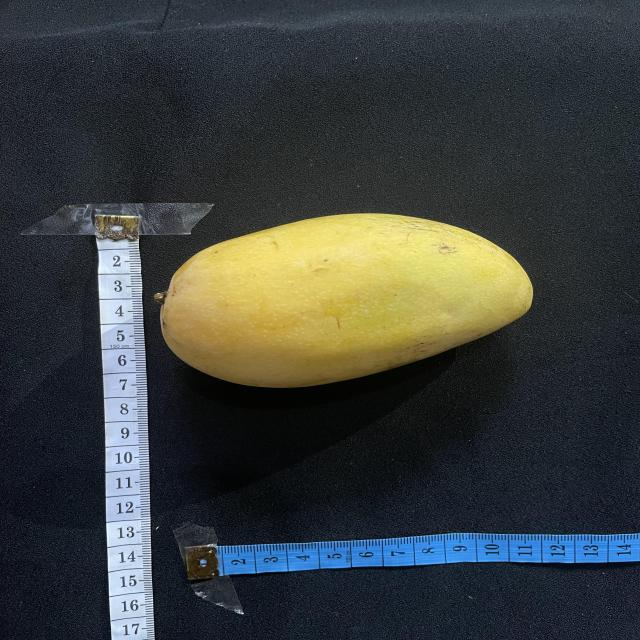Ripe: (161, 214, 533, 387)
